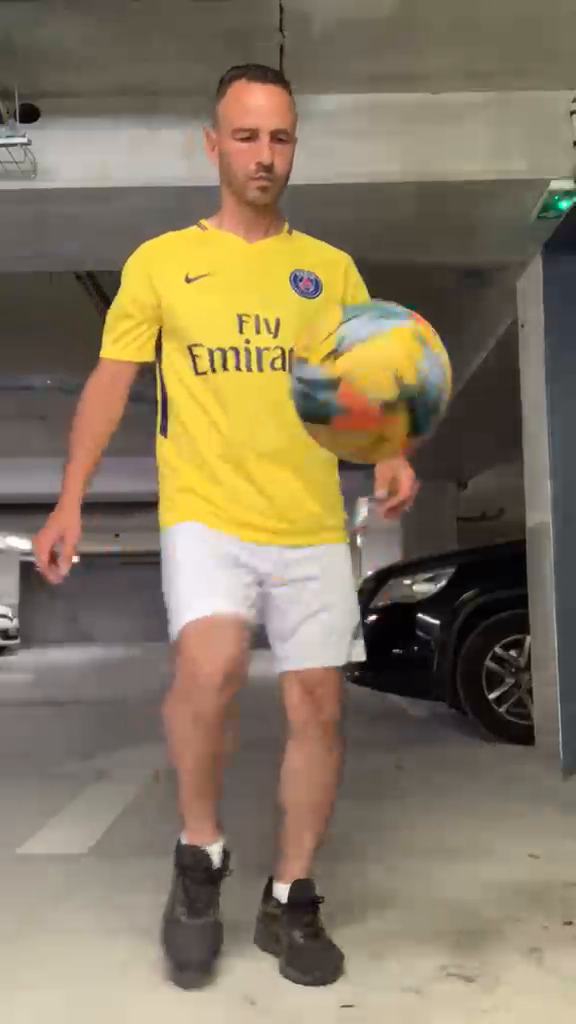ball: (288, 299, 453, 464)
